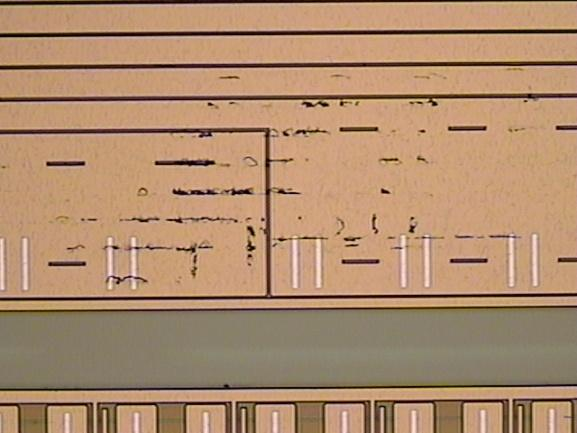PO CONTAMINATION: (52, 65, 547, 393)
